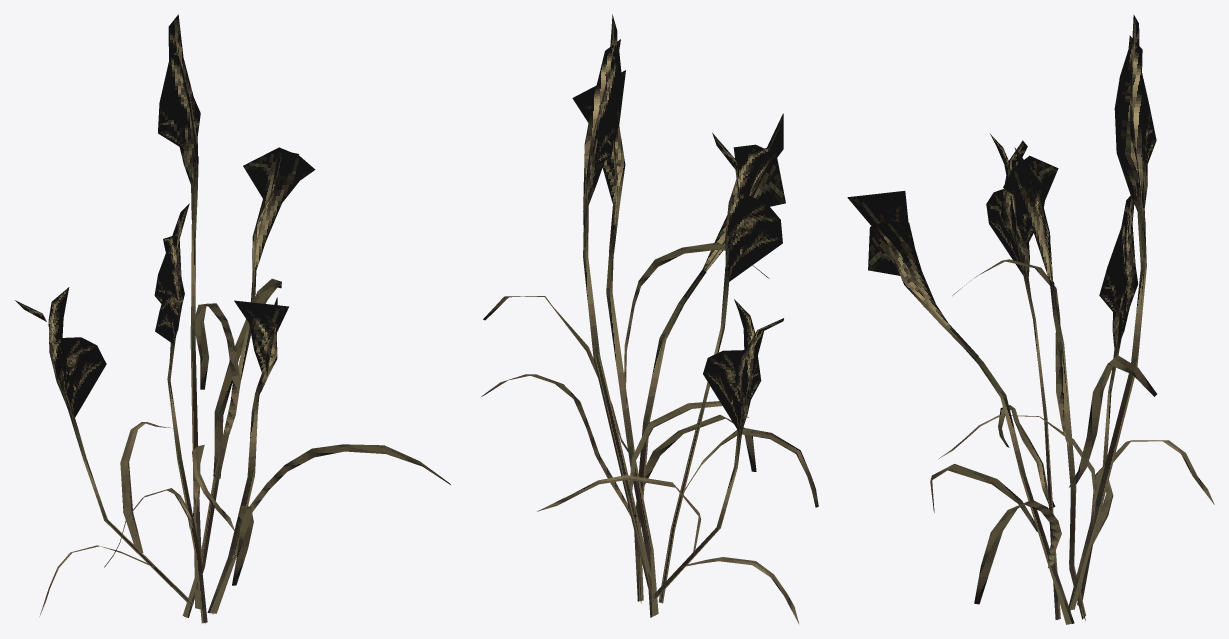
The model's file is natural-dry-fiber-weathered.glb.
3 views of the same model, side by side, from view 1: azimuth 30°, elevation 25°; view 2: azimuth 150°, elevation 25°; view 3: azimuth 270°, elevation 25° (orthographic). The views are drawn at different scales.
Parts seen in each view (by area): view 1: natural-dry-fiber-weathered runtime mesh; view 2: natural-dry-fiber-weathered runtime mesh; view 3: natural-dry-fiber-weathered runtime mesh.
Part boxes in pixels (x1=…): natural-dry-fiber-weathered runtime mesh: x1=15, y1=14, x2=450, y2=623; natural-dry-fiber-weathered runtime mesh: x1=481, y1=14, x2=818, y2=623; natural-dry-fiber-weathered runtime mesh: x1=847, y1=14, x2=1214, y2=624.
Size of the model in its own units: 0.272 by 0.42 by 0.2278.
1 material, 1 textured.
